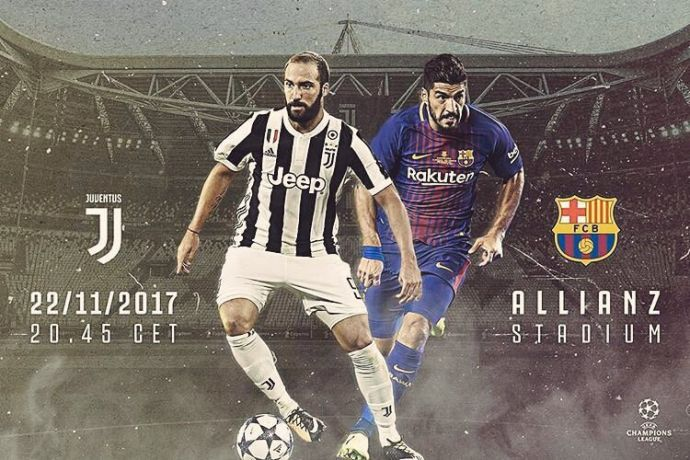ball: (235, 412, 296, 460)
